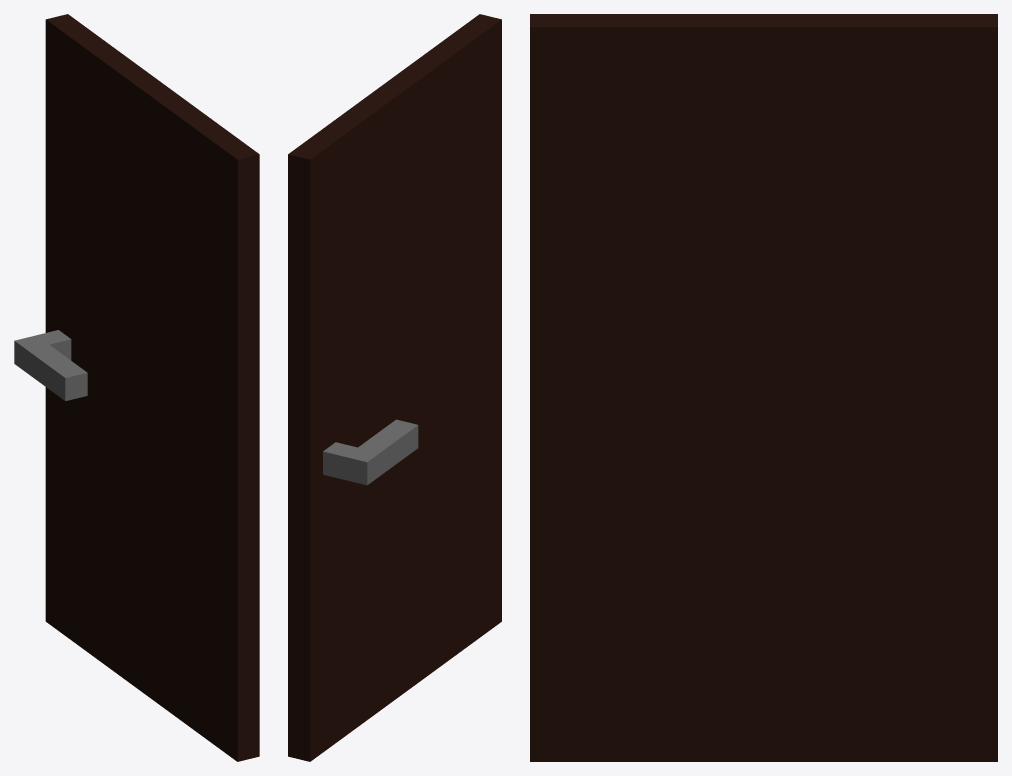
Rendered from drzwi.fbx.
The picture shows the model from 3 angles, left to right: view 1: azimuth 30°, elevation 25°; view 2: azimuth 150°, elevation 25°; view 3: azimuth 270°, elevation 25°; orthographic projection. The views are drawn at different scales.
Parts seen in each view (by area): view 1: drzwi; view 2: drzwi; view 3: drzwi.
Boxes of the visible parts, x1,y1,x2,y2 form: drzwi: [14, 14, 259, 761]; drzwi: [288, 14, 501, 761]; drzwi: [530, 14, 997, 761].
Bounding box in the file's own units: 3 × 26 × 15.
